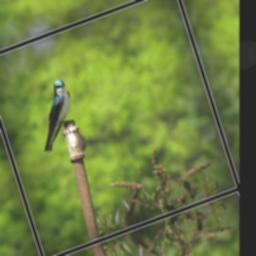Swallow: (25, 76, 85, 156)
